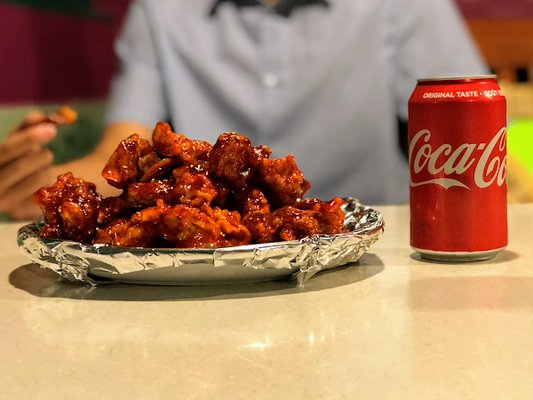pizza: (406, 73, 509, 263)
